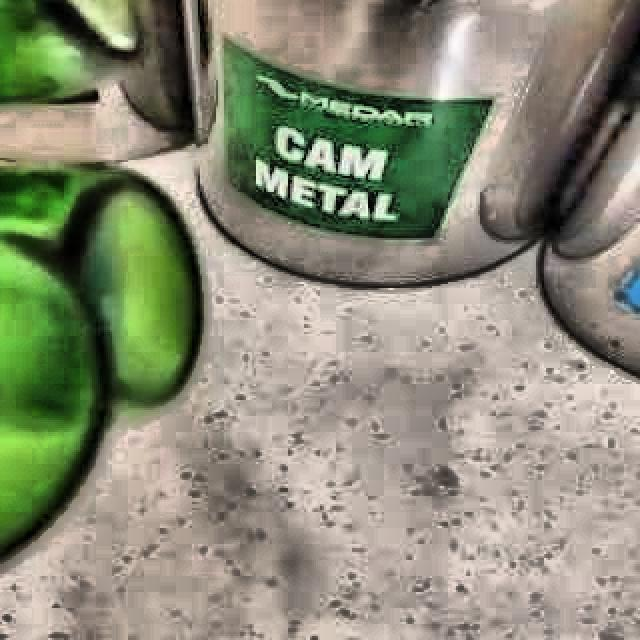glass: (0, 167, 200, 558)
